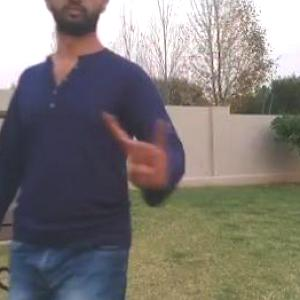takeoff-hand: (101, 110, 176, 192)
